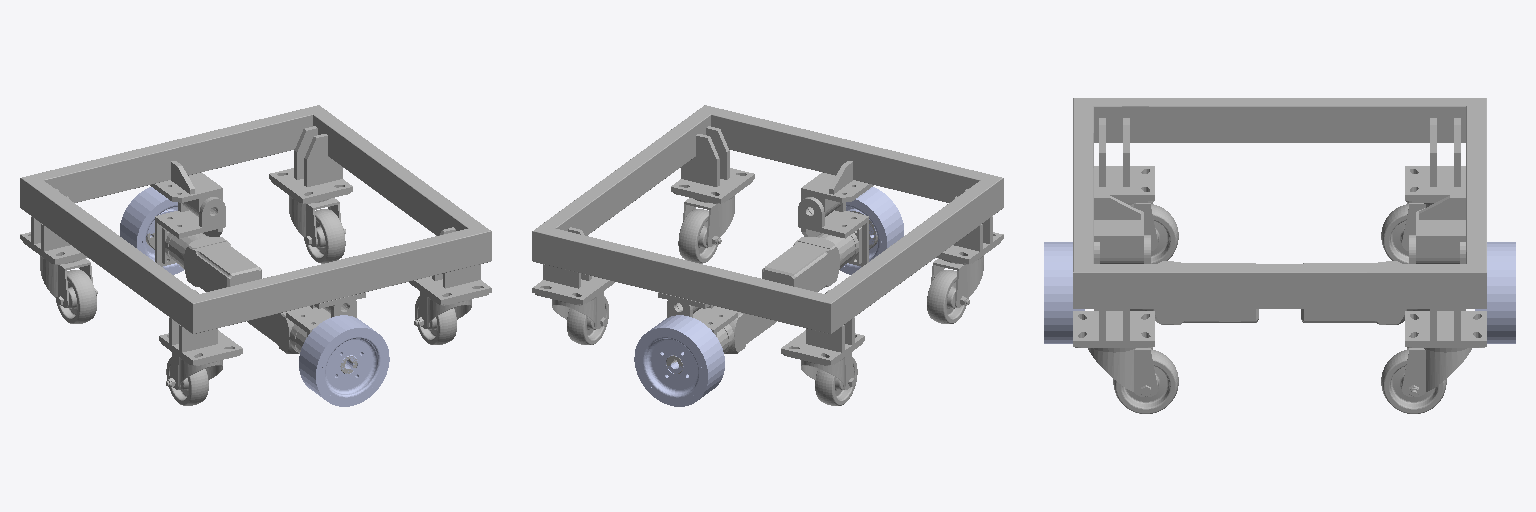
The robot description file, URDF, robot "int300":
<?xml version="1.0" encoding="utf-8"?>
<!-- This URDF was automatically created by SolidWorks to URDF Exporter! Originally created by [author] ([email redacted]) 
     Commit Version: 1.6.0-1-g15f4949  Build Version: 1.6.7594.29634
     For more information, please see http://wiki.ros.org/sw_urdf_exporter -->
<robot
  name="int300">
  <link
    name="base_link">
    <inertial>
      <origin
        xyz="9.7076E-05 -1.3143E-10 0.081556"
        rpy="0 0 0" />
      <mass
        value="3.7103" />
      <inertia
        ixx="0.036134"
        ixy="8.0952E-10"
        ixz="-1.9413E-05"
        iyy="0.032568"
        iyz="-4.1125E-07"
        izz="0.066552" />
    </inertial>
    <visual>
      <origin
        xyz="0 0 0"
        rpy="0 0 0" />
      <geometry>
        <mesh
          filename="package://int300/meshes/base_link.STL" />
      </geometry>
      <material
        name="">
        <color
          rgba="0.75294 0.75294 0.75294 1" />
      </material>
    </visual>
    <collision>
      <origin
        xyz="0 0 0"
        rpy="0 0 0" />
      <geometry>
        <mesh
          filename="package://int300/meshes/base_link.STL" />
      </geometry>
    </collision>
  </link>
  <link
    name="Right_wheel">
    <inertial>
      <origin
        xyz="-1.559E-05 0.014545 0.00017805"
        rpy="0 0 0" />
      <mass
        value="0.41627" />
      <inertia
        ixx="0.00056134"
        ixy="-1.1117E-09"
        ixz="-2.8584E-09"
        iyy="0.00097314"
        iyz="1.2697E-08"
        izz="0.00056137" />
    </inertial>
    <visual>
      <origin
        xyz="0 0 0"
        rpy="0 0 0" />
      <geometry>
        <mesh
          filename="package://int300/meshes/Right_wheel.STL" />
      </geometry>
      <material
        name="">
        <color
          rgba="0.79216 0.81961 0.93333 1" />
      </material>
    </visual>
    <collision>
      <origin
        xyz="0 0 0"
        rpy="0 0 0" />
      <geometry>
        <mesh
          filename="package://int300/meshes/Right_wheel.STL" />
      </geometry>
    </collision>
  </link>
  <joint
    name="right_wheel_joint"
    type="continuous">
    <origin
      xyz="-0.0024835 -0.2775 0.039812"
      rpy="0 0 0" />
    <parent
      link="base_link" />
    <child
      link="Right_wheel" />
    <axis
      xyz="0 1 0" />
  </joint>
  <link
    name="Left_wheel">
    <inertial>
      <origin
        xyz="-1.6175E-05 0.014545 -0.000178"
        rpy="0 0 0" />
      <mass
        value="0.41627" />
      <inertia
        ixx="0.00056134"
        ixy="-1.1535E-09"
        ixz="2.9658E-09"
        iyy="0.00097314"
        iyz="-1.2693E-08"
        izz="0.00056137" />
    </inertial>
    <visual>
      <origin
        xyz="0 0 0"
        rpy="0 0 0" />
      <geometry>
        <mesh
          filename="package://int300/meshes/Left_wheel.STL" />
      </geometry>
      <material
        name="">
        <color
          rgba="0.79216 0.81961 0.93333 1" />
      </material>
    </visual>
    <collision>
      <origin
        xyz="0 0 0"
        rpy="0 0 0" />
      <geometry>
        <mesh
          filename="package://int300/meshes/Left_wheel.STL" />
      </geometry>
    </collision>
  </link>
  <joint
    name="left_wheel_joint"
    type="continuous">
    <origin
      xyz="-0.0024829 0.2775 0.039812"
      rpy="3.1416 0 0" />
    <parent
      link="base_link" />
    <child
      link="Left_wheel" />
    <axis
      xyz="0 -1 0" />
  </joint>

 <!-- *****************************Hokuyo Laser***************************** >
 <link
    name="hokuyo_link">
    <inertial>
      <origin
        xyz="0 0 0"
        rpy="0 0 0" />
      <mass
        value="0" />
      <inertia
        ixx="0"
        ixy="0"
        ixz="0"
        iyy="0"
        iyz="0"
        izz="0" />
    </inertial>
    <visual>
      <origin
        xyz="0 0 0"
        rpy="0 0 0" />
      <geometry>
        <mesh
          filename="package://int300/meshes/CAM.STL" />
      </geometry>
      <material
        name="">
        <color
          rgba="1 1 1 1" />
      </material>
    </visual>
    <collision>
      <origin
        xyz="0 0 0"
        rpy="0 0 0" />
      <geometry>
        <mesh
          filename="package://int300/meshes/CAM.STL" />
      </geometry>
    </collision>
  </link>

  <joint
    name="hokuyo_joint"
    type="fixed">
    <origin
      xyz="0.281450000000119 0 0.109706094389698"
      rpy="0 0 0" />
    <parent
      link="base_link" />

    <child
      link="hokuyo_link" />

    <axis

      xyz="0 0 1" />

  </joint>-->


 <!-- hokuyo >
  <gazebo reference="hokuyo_link">
    <sensor type="ray" name="head_hokuyo_sensor">
      <pose>0.0 0 0.0 0 0 0</pose>
      <ray>
        <scan>
          <horizontal>
            <samples>720</samples>
            <resolution>1</resolution>
            <min_angle>-1.570796</min_angle>
            <max_angle>1.570796</max_angle>
          </horizontal>
        </scan>
        <range>
          <min>0.26</min>
          <max>5</max>
          <resolution>1</resolution>
        </range>
        <noise>
          <type>gaussian</type>
          <mean>0.0</mean>
          <stddev>0.01</stddev>
        </noise>
      </ray>
      <plugin name="gazebo_ros_head_hokuyo_controller" filename="libgazebo_ros_laser.so">
        <always_on>1</always_on>
        <topicName>/int300/laser/scan</topicName>
        <frameName>hokuyo_link</frameName>
      </plugin>
      <always_on>1</always_on>
      <update_rate>80</update_rate>
      <visualize>false</visualize>
    </sensor>
  </gazebo-->


  <!--************************************* depth camera *****************************************************************>
  <link
    name="camera_link">
    <inertial>
      <origin
        xyz="0 0 0"
        rpy="0 0 0" />
      <mass
        value="0" />
      <inertia
        ixx="0"
        ixy="0"
        ixz="0"
        iyy="0"
        iyz="0"
        izz="0" />
    </inertial>
    <visual>
      <origin
        xyz="0 0 0"
        rpy="0 0 0" />
      <geometry>
        <mesh
          filename="package://int300/meshes/CAM.STL" />
      </geometry>
      <material
        name="">
        <color
          rgba="1 1 1 1" />
      </material>
    </visual>
    <collision>
      <origin
        xyz="0 0 0"
        rpy="0 0 0" />
      <geometry>
        <mesh
          filename="package://int300/meshes/CAM.STL" />
      </geometry>
    </collision>
  </link>
  <joint
    name="camera_joint"
    type="fixed">
    <origin
      xyz="0.281450000000119 0 0.109706094389698"
      rpy="0 0 0" />
    <parent
      link="base_link" />
    <child
      link="camera_link" />
    <axis
      xyz="0 0 0" />
  </joint>


 <joint name="camera_rgb_joint" type="fixed">
    <origin xyz="0.003 0.011 0.009" rpy="0 0 0"/>
    <parent link="camera_link"/>
    <child link="camera_rgb_frame"/>
  </joint>
  <link name="camera_rgb_frame"/>

  <joint name="camera_rgb_optical_joint" type="fixed">
    <origin xyz="0 0 0" rpy="-1.57 0 -1.57"/>
    <parent link="camera_rgb_frame"/>
    <child link="camera_rgb_optical_frame"/>
  </joint>
  <link name="camera_rgb_optical_frame"/>

  <!depth camera >



<gazebo reference="camera_rgb_frame">
  <sensor name="camera_link_camera" type="depth">
    <update_rate>20</update_rate>
    <camera>
      <horizontal_fov>1.047198</horizontal_fov>
      <image>
        <width>1920</width>
        <height>1080</height>
        <format>R8G8B8</format>
      </image>
      <clip>
        <near>0.05</near>
        <far>3</far>
      </clip>
    </camera>
    <plugin name="camera_link_controller" filename="libgazebo_ros_openni_kinect.so">
      <baseline>0.2</baseline>
      <alwaysOn>true</alwaysOn>
      <updateRate>1.0</updateRate>       
      <cameraName>kinect_ir</cameraName>
      <imageTopicName>/kinect/color/image_raw</imageTopicName>
      <cameraInfoTopicName>/kinect/color/camera_info</cameraInfoTopicName>
      <depthImageTopicName>/kinect/depth/image_raw</depthImageTopicName>
      <depthImageInfoTopicName>/kinect/depth/camera_info</depthImageInfoTopicName>
      <pointCloudTopicName>/kinect/depth/points</pointCloudTopicName>
      <frameName>camera_rgb_optical_frame</frameName>
      <pointCloudCutoff>0.5</pointCloudCutoff>
      <pointCloudCutoffMax>3.0</pointCloudCutoffMax>
      <distortionK1>0.00000001</distortionK1>
      <distortionK2>0.00000001</distortionK2>
      <distortionK3>0.00000001</distortionK3>
      <distortionT1>0.00000001</distortionT1>
      <distortionT2>0.00000001</distortionT2>
      <CxPrime>0</CxPrime>
      <Cx>0</Cx>
      <Cy>0</Cy>
      <focalLength>0</focalLength>
      <hackBaseline>0</hackBaseline>
    </plugin>
  </sensor>
</gazebo-->


   <!--*******************************************DIFFDRIVE*****************************-->

  <gazebo>
    <plugin filename="libgazebo_ros_diff_drive.so" name="differential_drive_controller">
      <rosDebugLevel>Debug</rosDebugLevel>
      <robotNamespace>/</robotNamespace>
      <publishWheelTF>true</publishWheelTF>
      <publishWheelJointState>true</publishWheelJointState>
      <alwaysOn>true</alwaysOn>
      <leftJoint>left_wheel_joint</leftJoint>
      <rightJoint>right_wheel_joint</rightJoint>
      <wheelAcceleration>1.8</wheelAcceleration>
      <commandTopic>cmd_vel</commandTopic>
      <odometryTopic>odom</odometryTopic>
      <odometryFrame>odom</odometryFrame>
      <odometrySource>world</odometrySource>
      <robotBaseFrame>base_link</robotBaseFrame>
      <updateRate>10.0</updateRate>
    </plugin>
  </gazebo>

</robot>

--- Facts derived from the render (not from the file) ---
Views: 3 orthographic renders of the robot side by side, from view 1: azimuth 30°, elevation 25°; view 2: azimuth 150°, elevation 25°; view 3: azimuth 270°, elevation 25°.
Robot: int300 — 3 links, 2 joints (2 continuous); root link base_link; default pose: every joint at zero.
Links seen in each view (by area): view 1: base_link, Right_wheel, Left_wheel; view 2: base_link, Left_wheel, Right_wheel; view 3: base_link, Right_wheel, Left_wheel.
Boxes of the visible links, x1=… form: base_link: x1=20, y1=105, x2=491, y2=405; Right_wheel: x1=299, y1=315, x2=389, y2=406; Left_wheel: x1=120, y1=187, x2=183, y2=274; base_link: x1=532, y1=105, x2=1003, y2=405; Left_wheel: x1=634, y1=315, x2=724, y2=406; Right_wheel: x1=840, y1=187, x2=903, y2=274; base_link: x1=1073, y1=98, x2=1486, y2=413; Right_wheel: x1=1044, y1=242, x2=1084, y2=343; Left_wheel: x1=1475, y1=242, x2=1515, y2=343.
Bounding box of the posed robot: 0.505 × 0.575 × 0.2095 m (x, y, z).
Meshes: 3 distinct files referenced, 3 mesh visuals loaded (3 binary STL).
